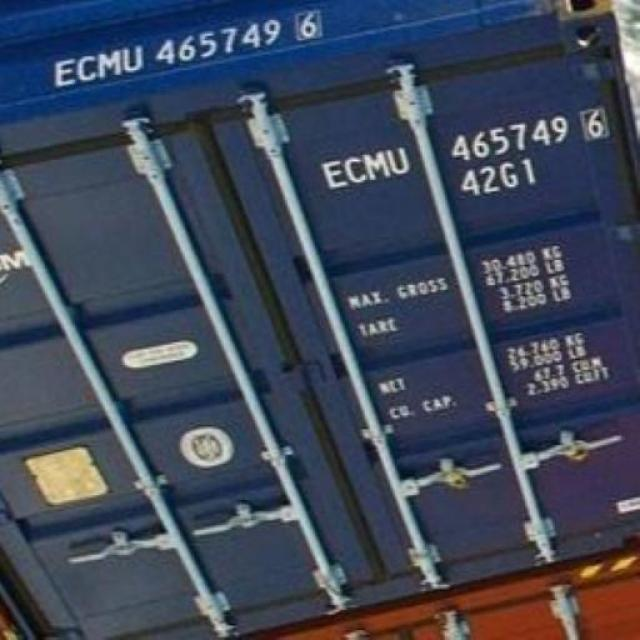ISO: (458, 160, 538, 193)
container_number: (323, 103, 604, 192)
